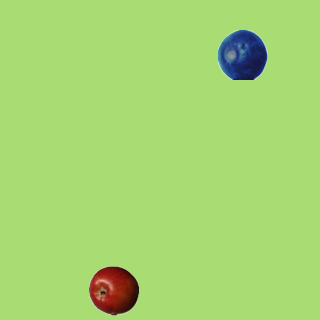Apple Braeburn: (88, 265, 138, 315)
Huckleberry: (217, 29, 267, 79)
